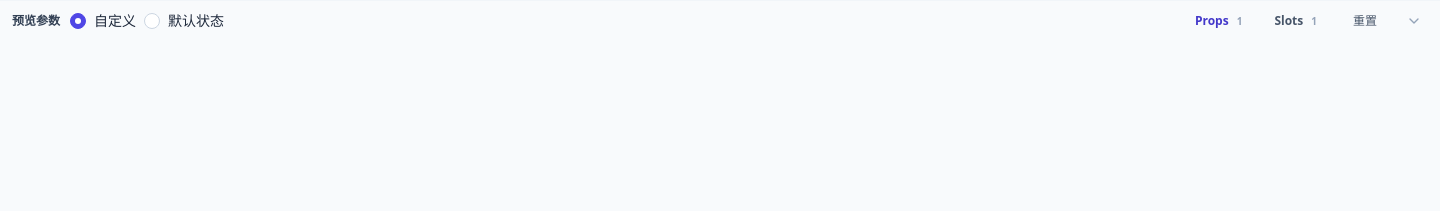
Test: ComponentPreviewParameterDock › 抽屉开关按钮应按当前 tab 展开和收起
Click the button titled "展开预览参数".
click(1414, 21)  # box top-left (1400, 7), bottom-right (1428, 35)
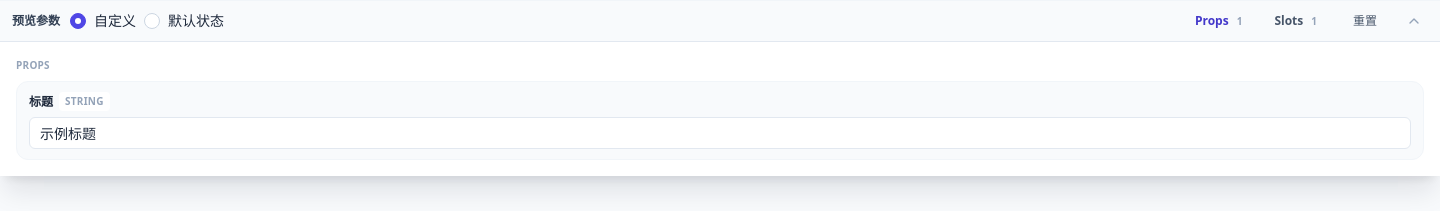
Expected: the button titled "展开预览参数" is expanded
Expected: the heading "标题" is shown, top-left (29, 94), bottom-right (53, 110)
Click the button titled "展开预览参数".
click(1414, 21)  # box top-left (1400, 7), bottom-right (1428, 35)
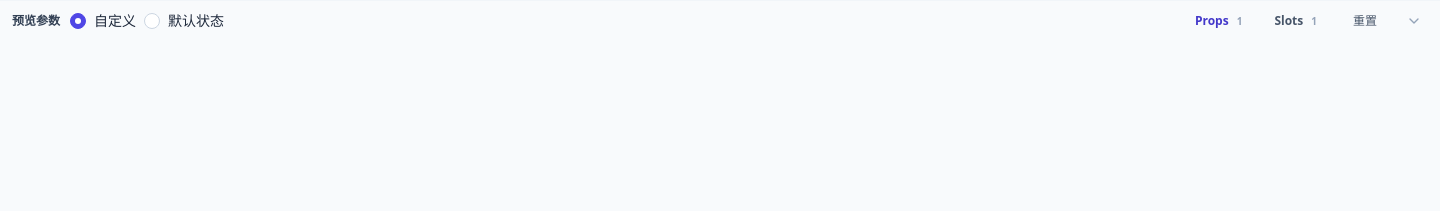
Expected: the button titled "展开预览参数" is collapsed, top-left (1400, 7), bottom-right (1428, 35)
Expected: the heading "标题" is gone
